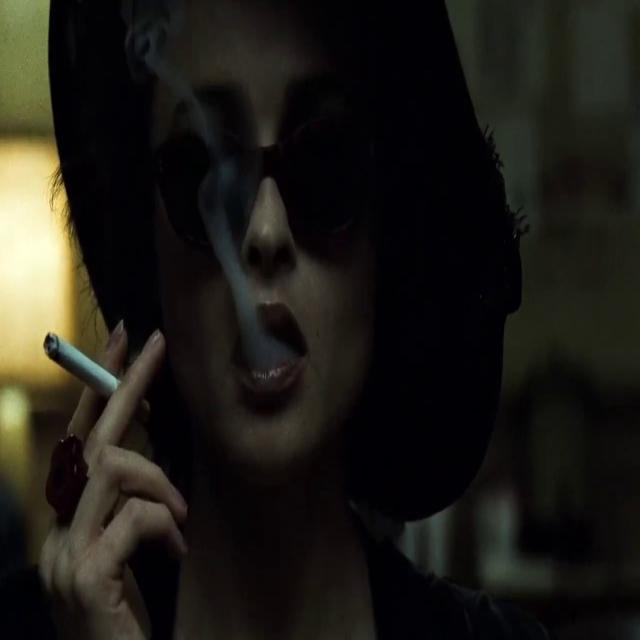Smooking: (36, 325, 126, 400)
